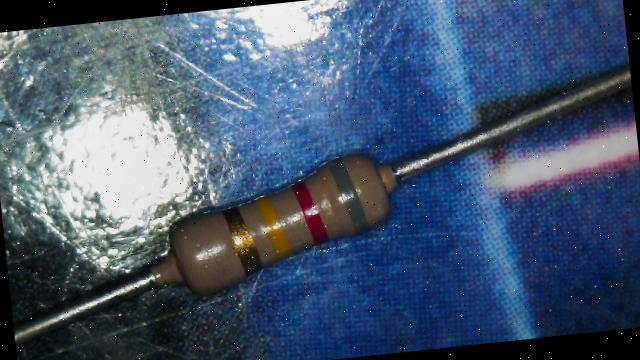gold: (224, 204, 260, 275)
grey: (334, 156, 363, 234)
red: (296, 178, 324, 246)
resistor: (137, 124, 419, 324)
yellow: (258, 194, 286, 256)
